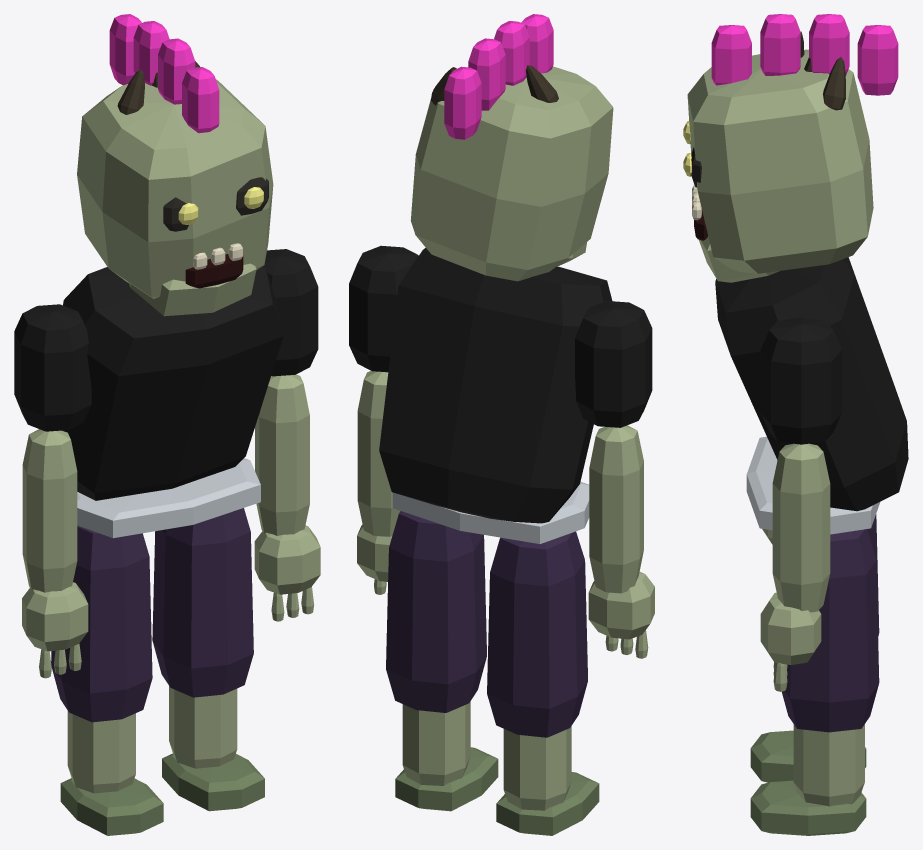
Rendered from mon-runner-3.glb.
3 views of the same model, side by side, from view 1: azimuth 30°, elevation 25°; view 2: azimuth 150°, elevation 25°; view 3: azimuth 270°, elevation 25° (orthographic).
Visible parts, largest first — view 1: head, torso, leg-left, leg-right, arm-right, arm-left; view 2: torso, head, leg-right, leg-left, arm-right, arm-left; view 3: head, torso, leg-left, arm-left, leg-right.
Part boxes in pixels (<box>): head: <box>77,14,273,316</box>; torso: <box>63,266,283,538</box>; leg-left: <box>152,508,264,811</box>; leg-right: <box>51,525,163,835</box>; arm-right: <box>14,304,91,678</box>; arm-left: <box>254,249,320,621</box>; torso: <box>379,248,612,543</box>; head: <box>410,14,613,281</box>; leg-right: <box>487,531,599,835</box>; leg-left: <box>386,511,498,811</box>; arm-right: <box>575,301,654,658</box>; arm-left: <box>349,245,418,594</box>; head: <box>683,14,898,282</box>; torso: <box>715,257,908,534</box>; leg-left: <box>750,529,879,835</box>; arm-left: <box>760,317,842,691</box>; leg-right: <box>750,514,879,782</box>.
Size of the model in its own units: 0.9745 by 2.48 by 0.6468.
